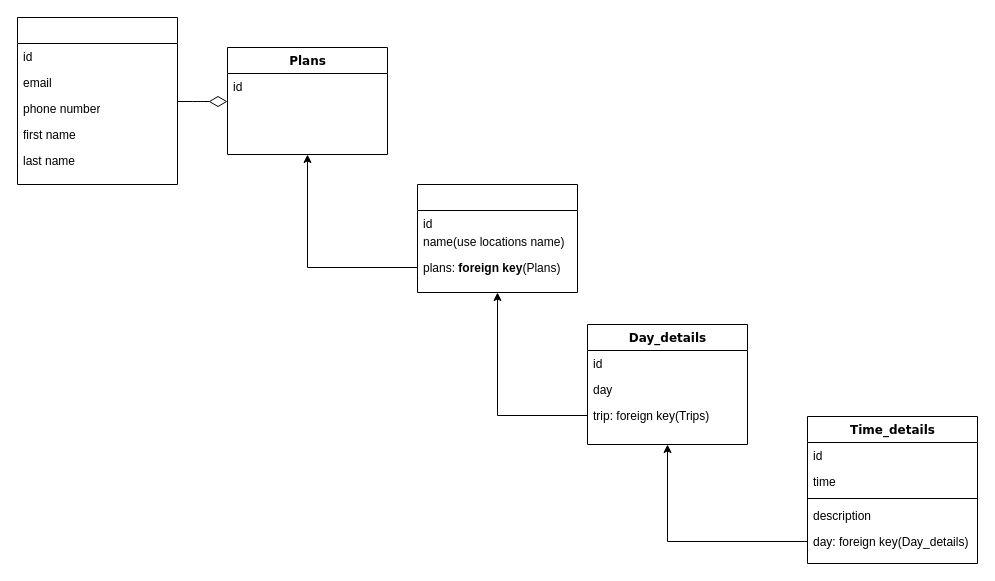
The diagram is 995 pixels wide and 581 high, and some of its shapes have lost their labels. Here are the shapes that lost their labels. From the top down, the box of each, then its label:
(16, 16, 178, 184): User
(416, 184, 578, 292): Trips
